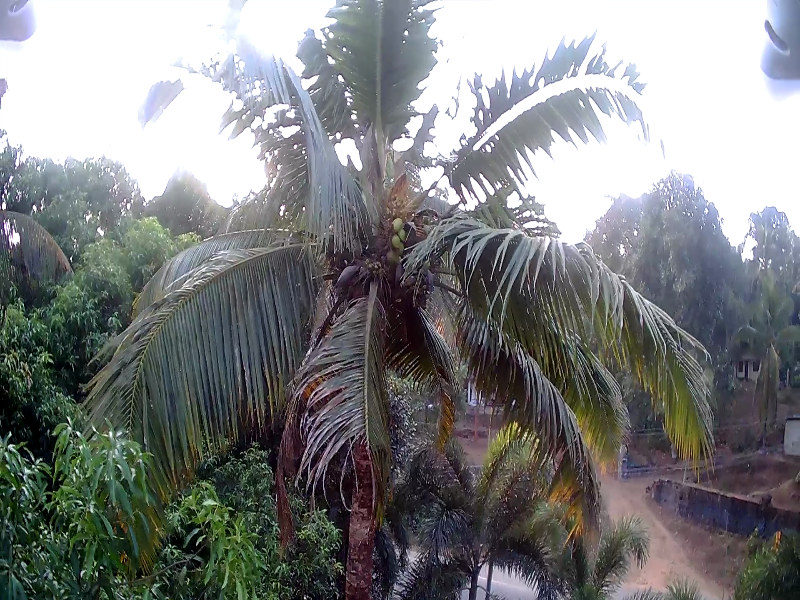coconut: (385, 251, 397, 263), (388, 234, 400, 245), (393, 219, 404, 230)
